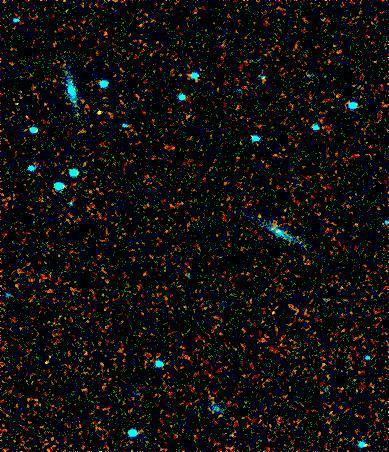star: (84, 97, 114, 127)
